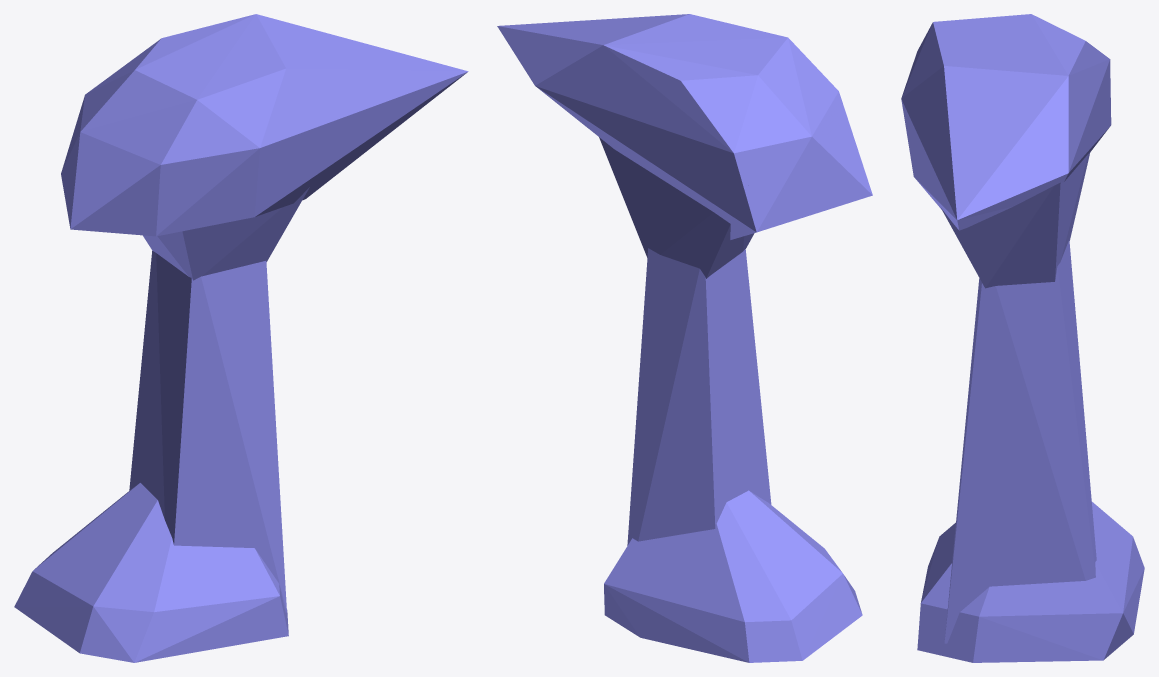
File: Cliff_Spire_04_Collider_Skew_01.FBX
3 renders of one model, left to right at view 1: azimuth 30°, elevation 25°; view 2: azimuth 150°, elevation 25°; view 3: azimuth 270°, elevation 25°, orthographic. The views are drawn at different scales.
Visible parts, largest first — view 1: COLLIDER2, COLLIDER1, COLLIDER4, COLLIDER3; view 2: COLLIDER2, COLLIDER1, COLLIDER4, COLLIDER3; view 3: COLLIDER1, COLLIDER2, COLLIDER4, COLLIDER3.
Part boxes in pixels (x1,y1,x2,y2): COLLIDER2: (61,14,468,236); COLLIDER1: (129,251,286,612); COLLIDER4: (14,483,288,662); COLLIDER3: (143,187,309,280); COLLIDER2: (497,14,872,239); COLLIDER1: (627,248,771,545); COLLIDER4: (604,490,862,662); COLLIDER3: (599,137,754,278); COLLIDER1: (944,240,1096,643); COLLIDER2: (901,14,1111,230); COLLIDER4: (917,501,1144,662); COLLIDER3: (941,152,1090,288).
Size of the model in its own units: 261 by 360 by 134.
